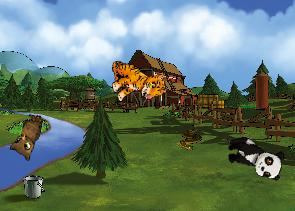owl: (7, 110, 43, 161)
panda: (221, 132, 288, 183)
tiger: (106, 52, 168, 107)
